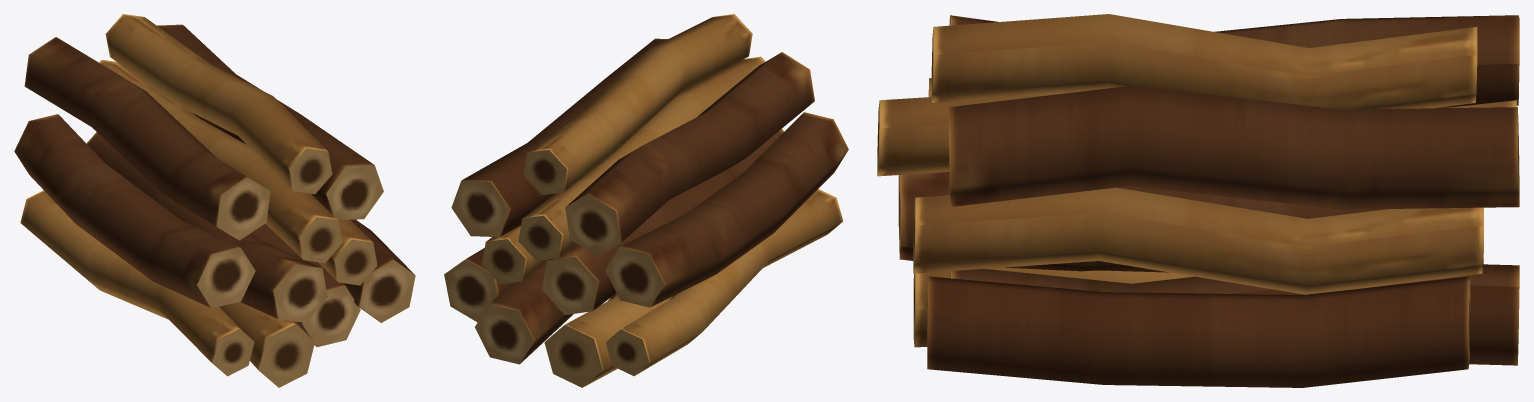
The model's file is assets_bughotel_woodtubes.fbx.
The picture shows the model from 3 angles, left to right: view 1: azimuth 30°, elevation 25°; view 2: azimuth 150°, elevation 25°; view 3: azimuth 270°, elevation 25°; orthographic projection. The views are drawn at different scales.
Parts seen in each view (by area): view 1: assets_bughotel_woodtubes; view 2: assets_bughotel_woodtubes; view 3: assets_bughotel_woodtubes.
Boxes of the visible parts, x1,y1,x2,y2 form: assets_bughotel_woodtubes: (14, 14, 415, 387); assets_bughotel_woodtubes: (444, 14, 848, 387); assets_bughotel_woodtubes: (877, 14, 1519, 387).
Bounding box in the file's own units: 1.77 × 1.76 × 2.72.
